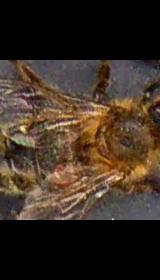varroa_mite: (42, 159, 66, 187)
